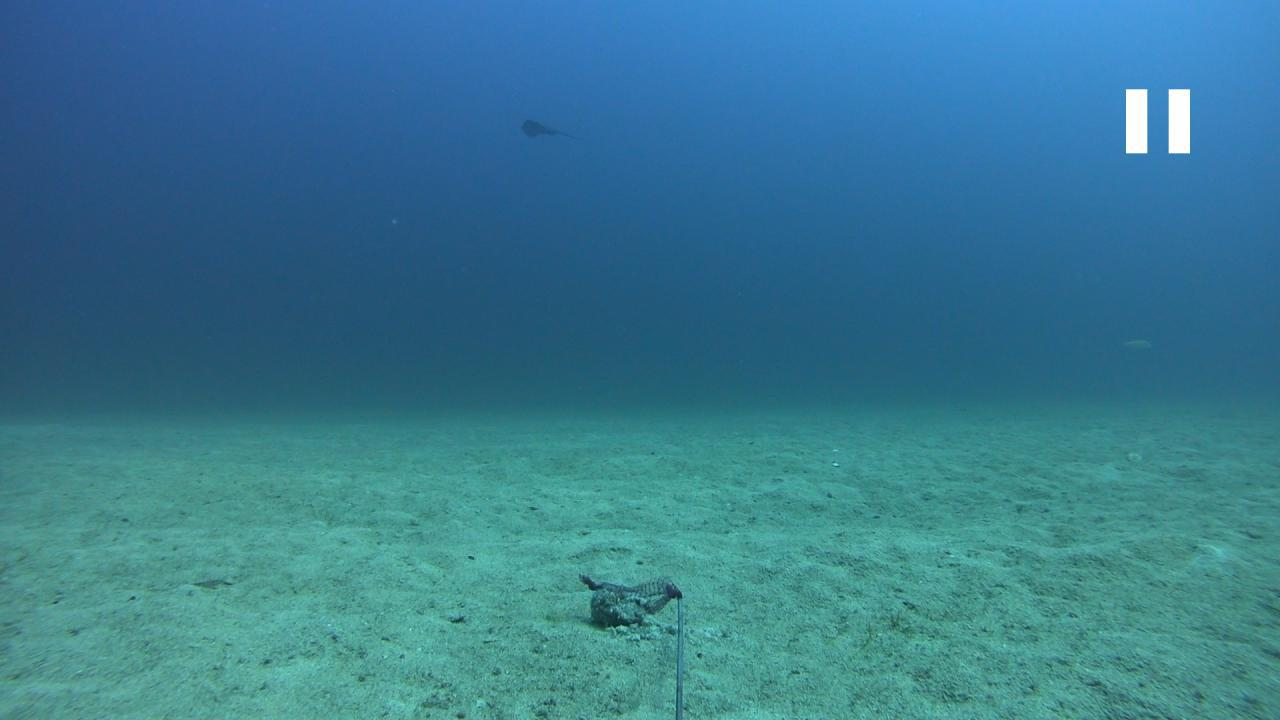dasyatis: (518, 116, 586, 144)
